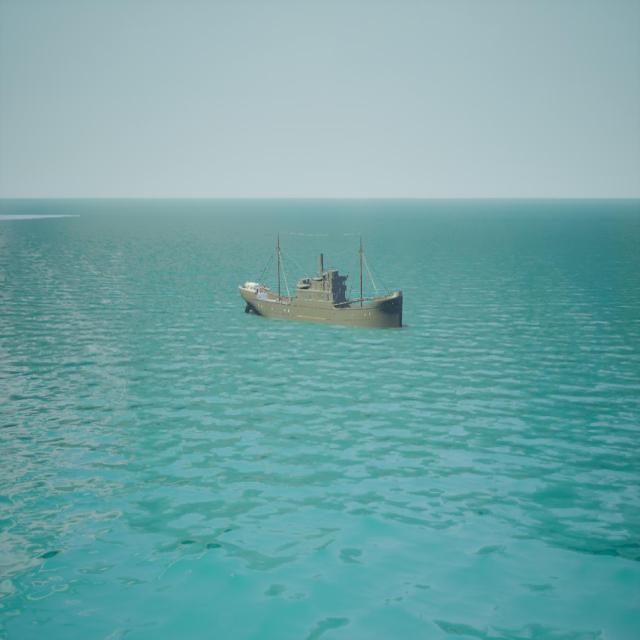fishing ship: (241, 236, 404, 330)
